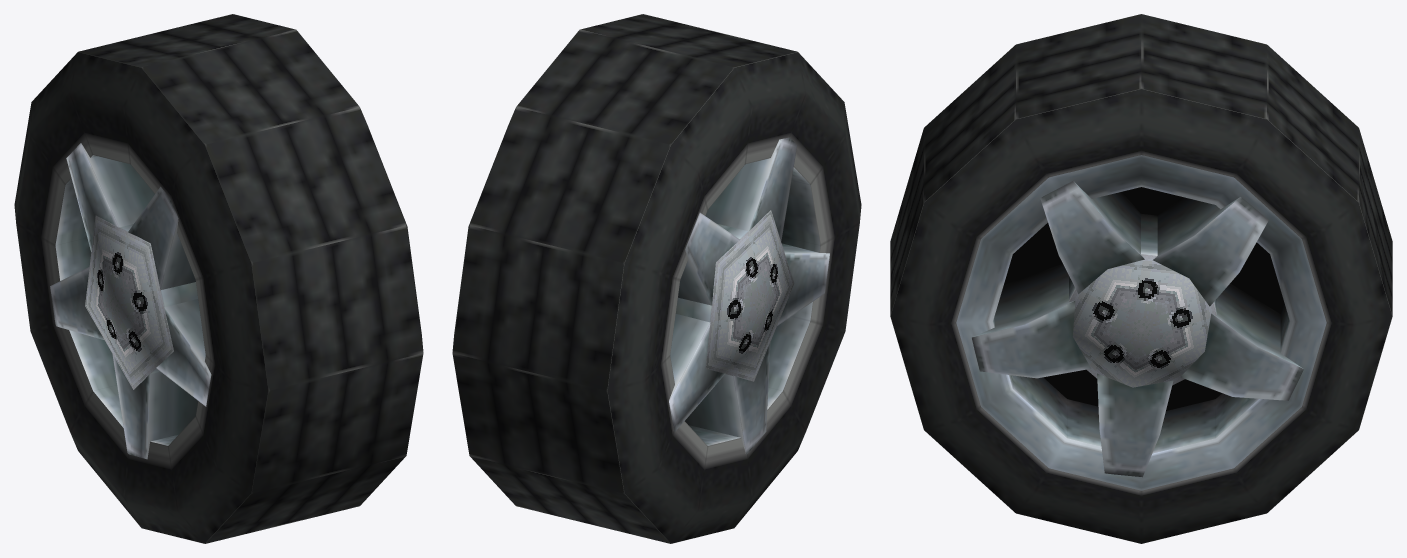
The model's file is DefaultWheel_buffalo.glb.
The picture shows the model from 3 angles, left to right: view 1: azimuth 30°, elevation 25°; view 2: azimuth 150°, elevation 25°; view 3: azimuth 270°, elevation 25°; orthographic projection.
Parts seen in each view (by area): view 1: wheel; view 2: wheel; view 3: wheel.
Part boxes in pixels (x1,y1,x2,y2): wheel: (14, 14, 423, 543); wheel: (452, 14, 861, 543); wheel: (890, 14, 1392, 543).
Bounding box in the file's own units: 0.3373 × 0.7 × 0.7.
Materials: 4 (3 with a texture image).
